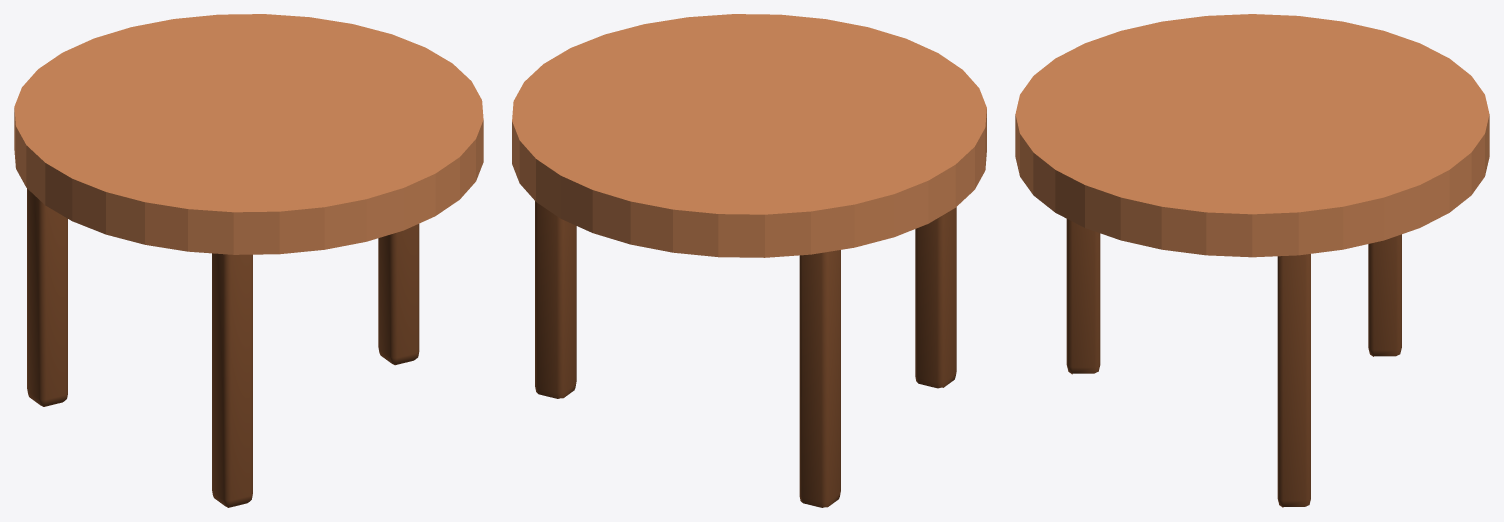
File: Props_Table_06.fbx
3 renders of one model, left to right at view 1: azimuth 30°, elevation 25°; view 2: azimuth 150°, elevation 25°; view 3: azimuth 270°, elevation 25°, orthographic.
Parts seen in each view (by area): view 1: Props_Table_06; view 2: Props_Table_06; view 3: Props_Table_06.
Part boxes in pixels (x1,y1,x2,y2): Props_Table_06: (14,14,483,507); Props_Table_06: (512,14,986,507); Props_Table_06: (1015,14,1489,507).
Size of the model in its own units: 100 by 71.03 by 100.
